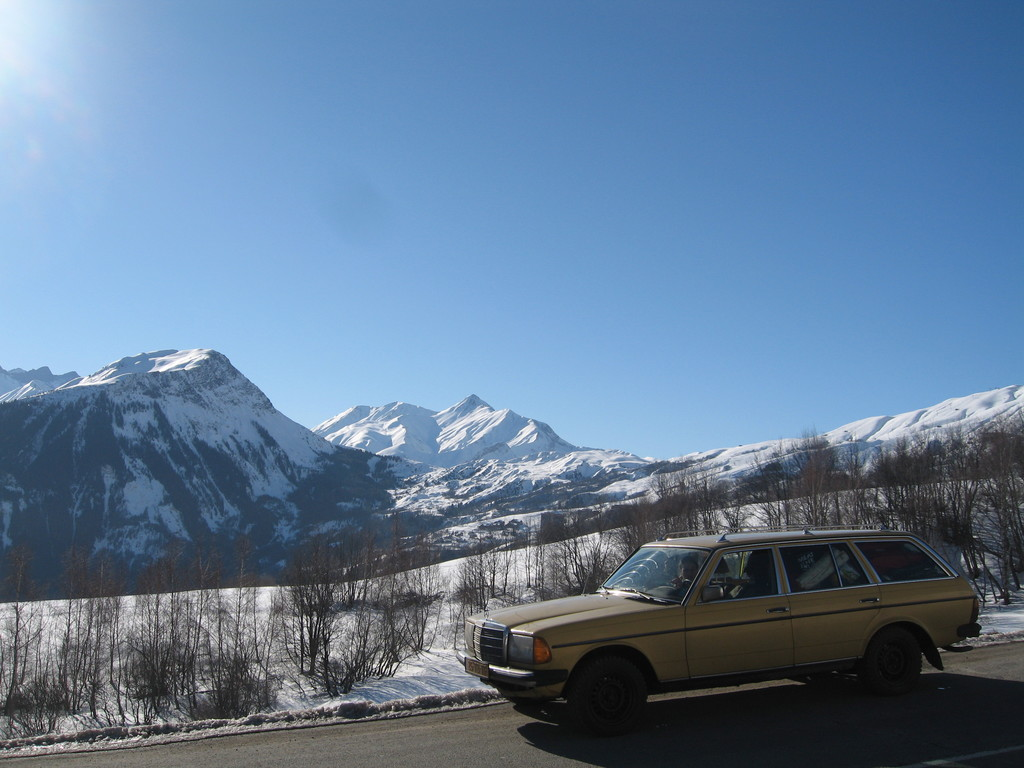Car: (454, 516, 986, 738)
